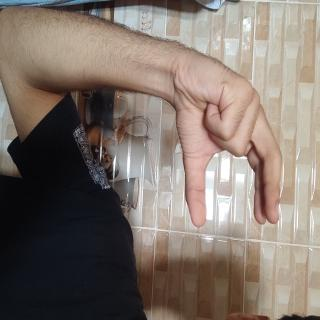DHELL: (27, 44, 176, 216)
